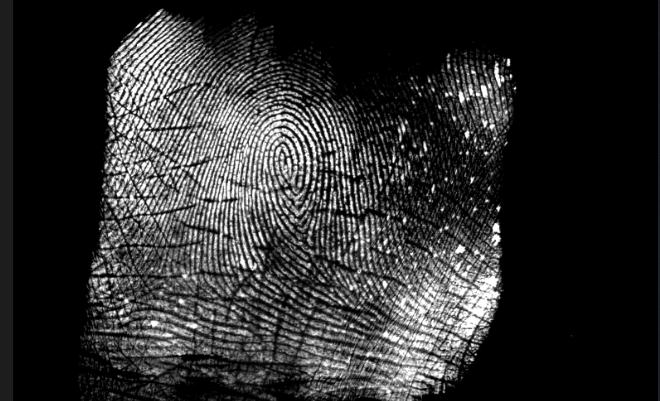nucelo: (267, 140, 298, 185)
verticilo: (150, 263, 175, 290), (292, 227, 318, 252)
